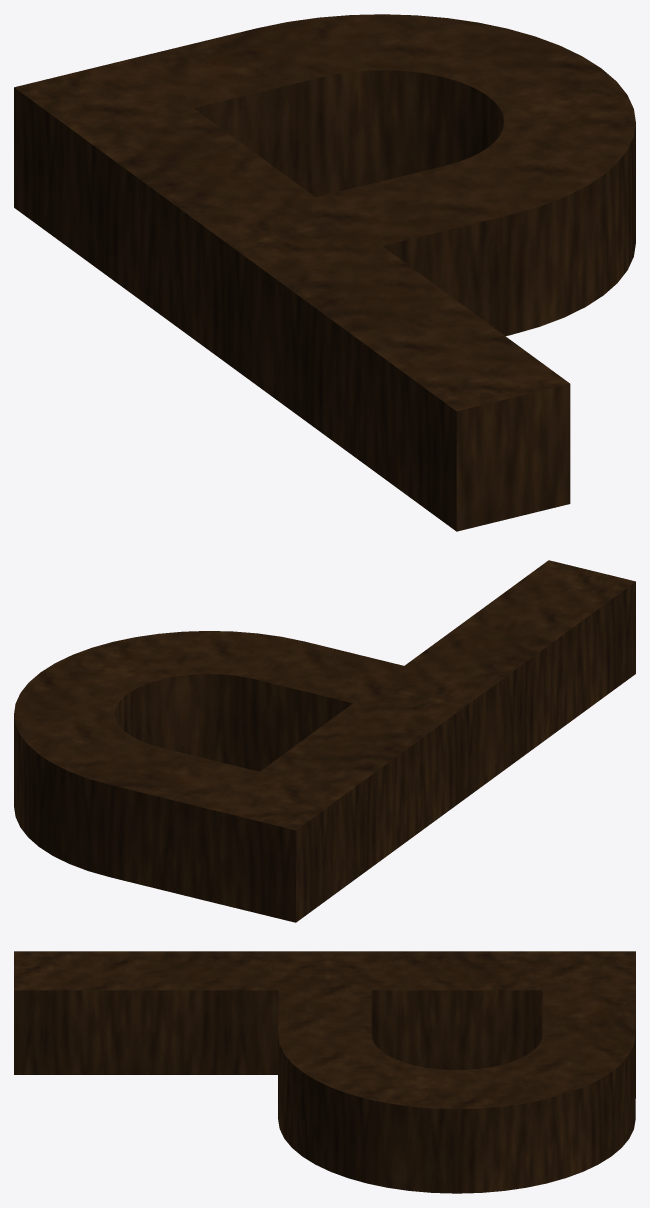
Rendered from LetterP.obj.
3 views of the same model, one above another, from view 1: azimuth 30°, elevation 25°; view 2: azimuth 150°, elevation 25°; view 3: azimuth 270°, elevation 25° (orthographic). The views are drawn at different scales.
Visible parts, largest first — view 1: LetterP; view 2: LetterP; view 3: LetterP.
Part boxes in pixels (left/top/right/bottom): LetterP: left=14, top=14, right=635, bottom=531; LetterP: left=14, top=560, right=635, bottom=922; LetterP: left=14, top=951, right=635, bottom=1193.
Bounding box in the file's own units: 0.6 × 0.15 × 1.
